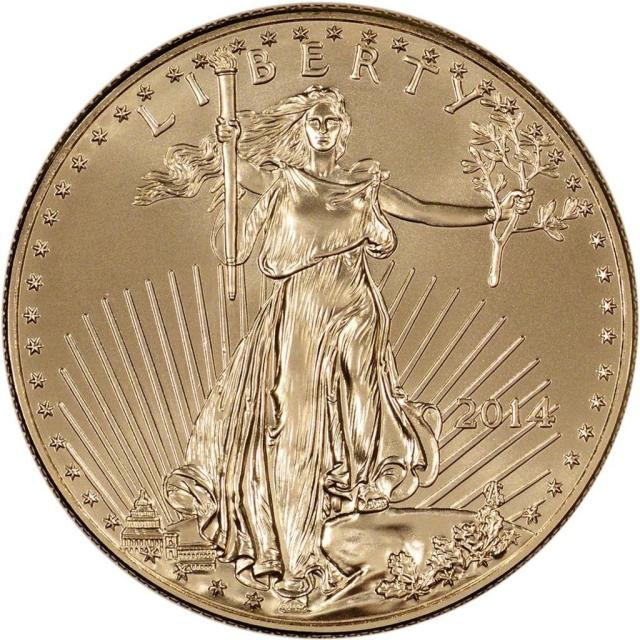Coin: (0, 0, 638, 636)
